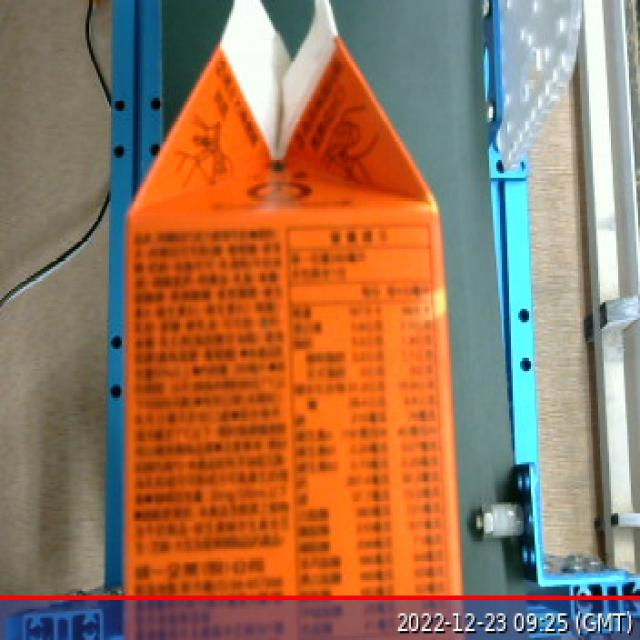non_white_jug: (107, 0, 464, 640)
